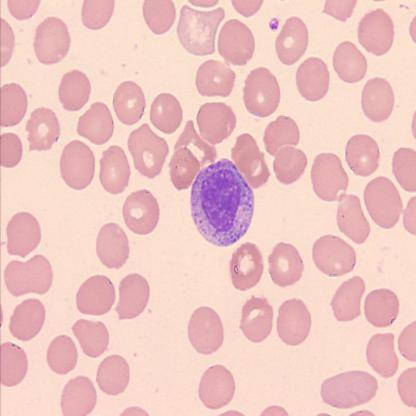Myelocyte: (188, 158, 254, 245)
